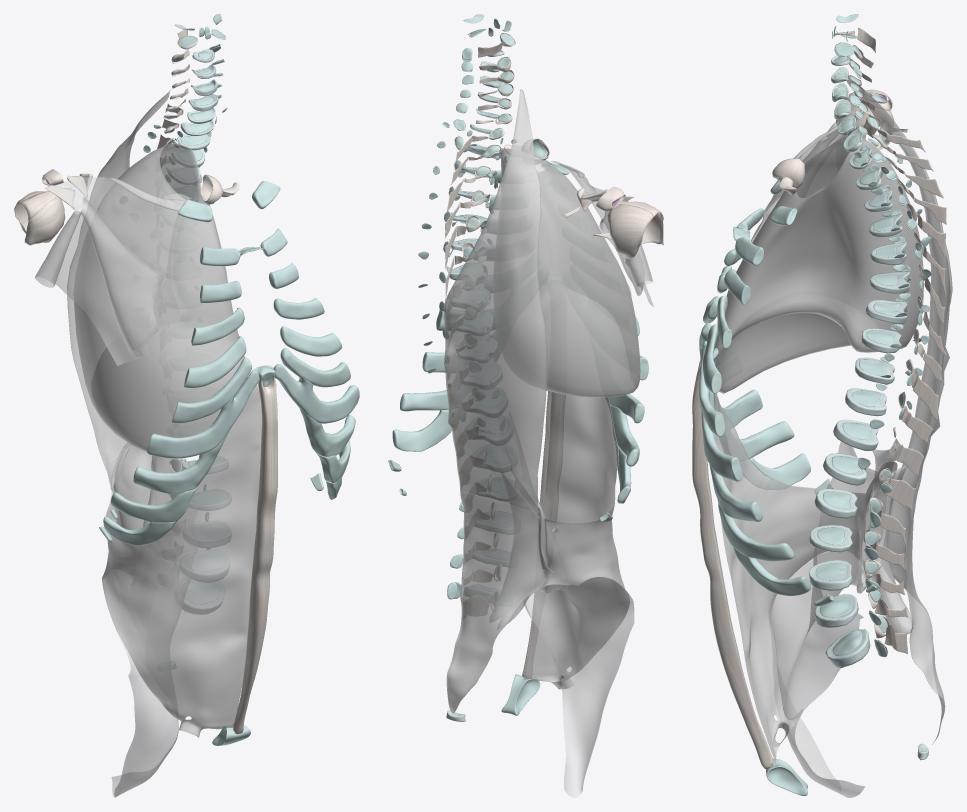
File: aligned-muscles-thorax-abdomen-connective-01.glb
3 renders of one model, left to right at view 1: azimuth 30°, elevation 25°; view 2: azimuth 150°, elevation 25°; view 3: azimuth 270°, elevation 25°, orthographic. The views are drawn at different scales.
Visible parts, largest first — view 1: O3D_2bc01ccf458cc6, O3D_065b7154ef69ee, O3D_68066de05dbc5b, O3D_7fee61555e6da2, O3D_6cb18da3c70c9e, O3D_407f09bc37e331, O3D_617339906ac9e8, O3D_c564c66f201924, O3D_f1bf81ab0f87f5, O3D_4e499c6684837b, O3D_eaa92679891f79; view 2: O3D_617339906ac9e8, O3D_2bc01ccf458cc6, O3D_065b7154ef69ee, O3D_6cb18da3c70c9e, O3D_9bb3d1a8d5dd77, O3D_68066de05dbc5b, O3D_c564c66f201924, O3D_45748f67b1e376, O3D_407f09bc37e331, O3D_eb5971f5ae20d9, O3D_b69cb22d491c4f, O3D_4e499c6684837b (+4 smaller); view 3: O3D_2bc01ccf458cc6, O3D_065b7154ef69ee, O3D_68066de05dbc5b, O3D_6cb18da3c70c9e, O3D_c564c66f201924, O3D_b69cb22d491c4f, O3D_407f09bc37e331, O3D_617339906ac9e8, O3D_9bb3d1a8d5dd77, O3D_7fee61555e6da2, O3D_eb5971f5ae20d9, O3D_45748f67b1e376 (+20 smaller).
Boxes of the visible parts, x1,y1,x2,y2 form: O3D_2bc01ccf458cc6: (73,143,247,451); O3D_065b7154ef69ee: (102,385,261,737); O3D_68066de05dbc5b: (99,181,359,545); O3D_7fee61555e6da2: (35,177,191,365); O3D_6cb18da3c70c9e: (105,455,190,797); O3D_407f09bc37e331: (233,377,277,734); O3D_617339906ac9e8: (67,89,171,480); O3D_c564c66f201924: (168,49,231,614); O3D_f1bf81ab0f87f5: (113,444,154,557); O3D_4e499c6684837b: (14,191,65,245); O3D_eaa92679891f79: (185,548,219,604); O3D_617339906ac9e8: (443,89,547,513); O3D_2bc01ccf458cc6: (493,148,640,397); O3D_065b7154ef69ee: (497,392,629,689); O3D_6cb18da3c70c9e: (509,413,634,797); O3D_9bb3d1a8d5dd77: (446,491,545,713); O3D_68066de05dbc5b: (388,144,648,532); O3D_c564c66f201924: (449,47,515,602); O3D_45748f67b1e376: (490,470,547,622); O3D_407f09bc37e331: (522,391,565,678); O3D_eb5971f5ae20d9: (453,41,503,616); O3D_b69cb22d491c4f: (445,136,476,619); O3D_4e499c6684837b: (607,203,663,258); O3D_2bc01ccf458cc6: (715,136,923,393); O3D_065b7154ef69ee: (714,393,900,764); O3D_68066de05dbc5b: (699,180,876,606); O3D_6cb18da3c70c9e: (769,441,877,797); O3D_c564c66f201924: (809,55,909,667); O3D_b69cb22d491c4f: (876,134,946,654); O3D_407f09bc37e331: (692,358,773,769); O3D_617339906ac9e8: (846,75,952,509); O3D_9bb3d1a8d5dd77: (887,482,945,744); O3D_7fee61555e6da2: (750,103,862,242); O3D_eb5971f5ae20d9: (857,27,930,650); O3D_45748f67b1e376: (866,466,912,634).
Size of the model in its own units: 0.3154 by 0.776 by 0.2235.
Materials: 7 (3 with a texture image).
